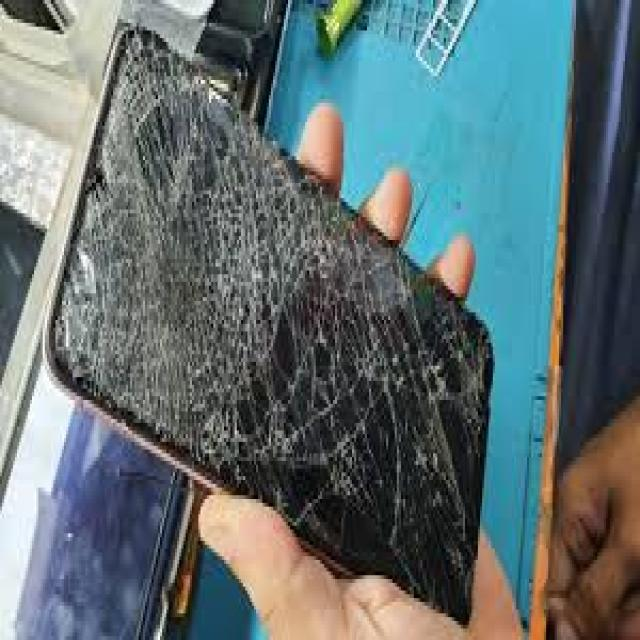mobile phone: (2, 7, 504, 618)
